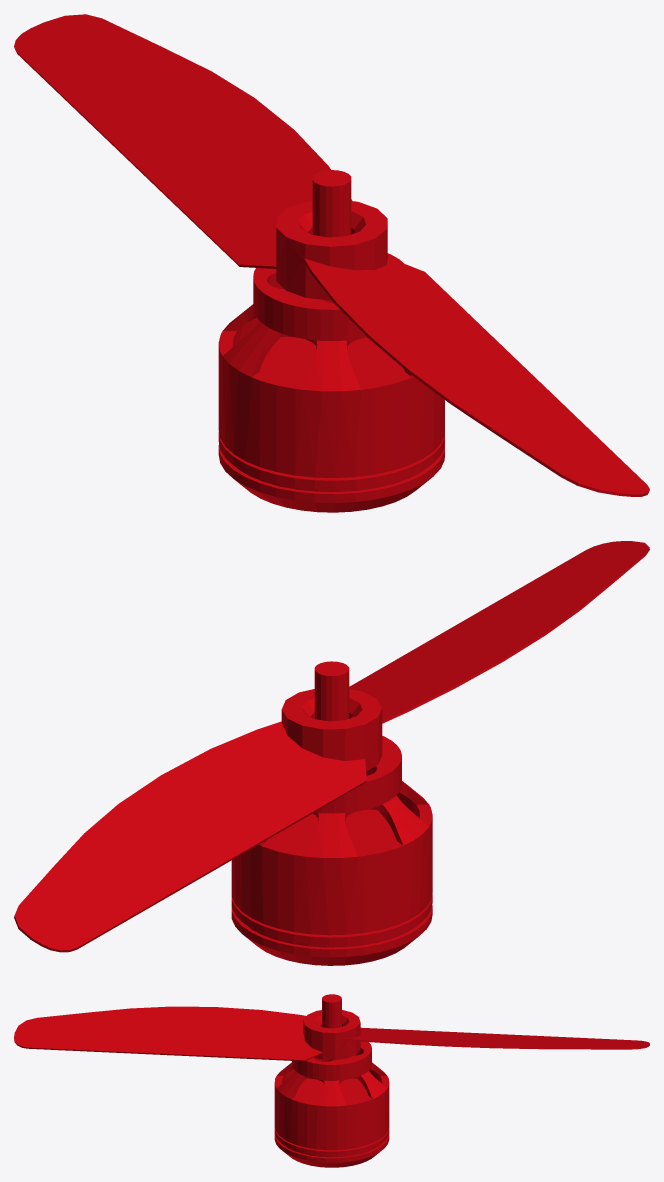
The model's file is motor4.dae.
3 renders of one model, top to bottom at view 1: azimuth 30°, elevation 25°; view 2: azimuth 150°, elevation 25°; view 3: azimuth 270°, elevation 25°, orthographic. The views are drawn at different scales.
Parts seen in each view (by area): view 1: motor4; view 2: motor4; view 3: motor4.
Boxes of the visible parts, bbox=[...] form: motor4: bbox=[14, 14, 649, 512]; motor4: bbox=[14, 541, 649, 965]; motor4: bbox=[14, 994, 649, 1167].
Bounding box in the file's own units: 0.023 × 0.1274 × 0.0348.
